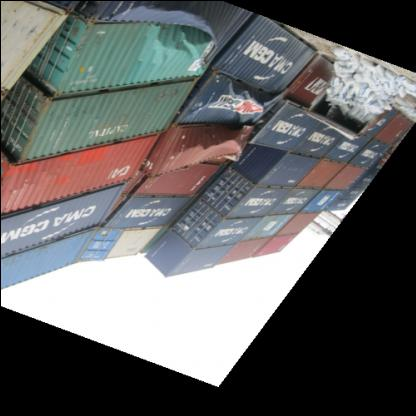Damage: (305, 61, 395, 148), (112, 8, 226, 76), (164, 126, 250, 168), (212, 79, 286, 121)
